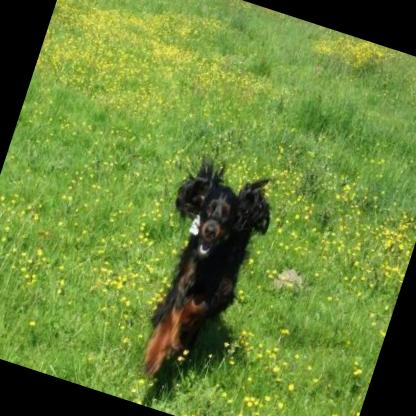Gordon_setter: (114, 142, 285, 398)
